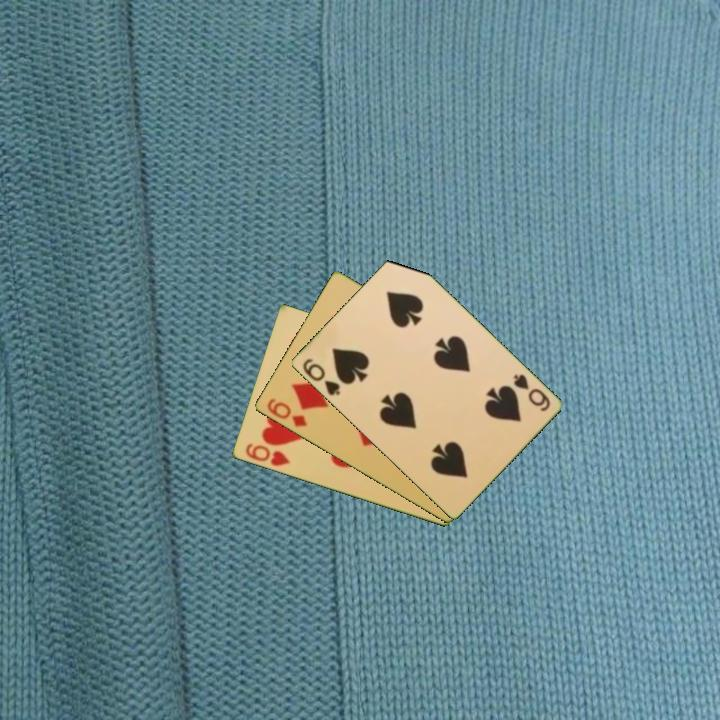6d: (263, 395, 310, 430)
6h: (242, 440, 293, 469)
6s: (299, 355, 343, 399), (509, 370, 553, 414)
